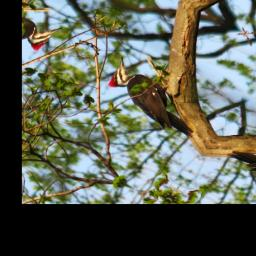Woodpecker: (90, 52, 221, 142)
